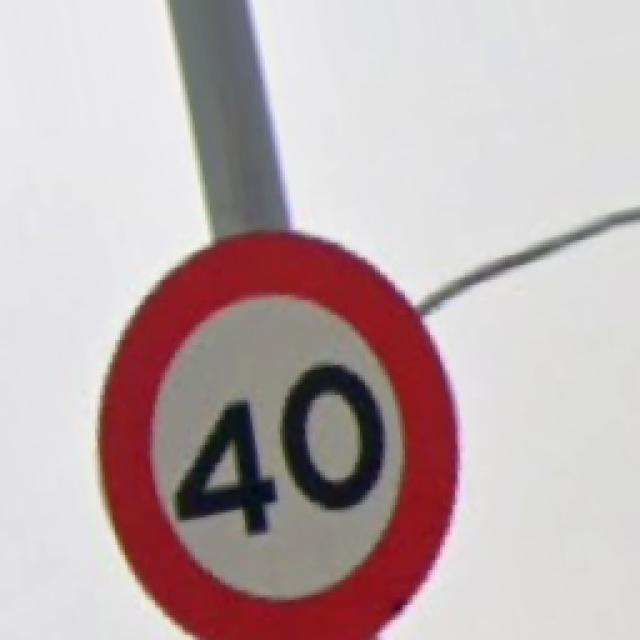Speed Limit -40-: (100, 232, 455, 638)
